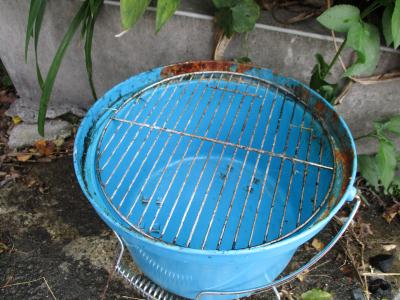bucket: (69, 56, 361, 299)
